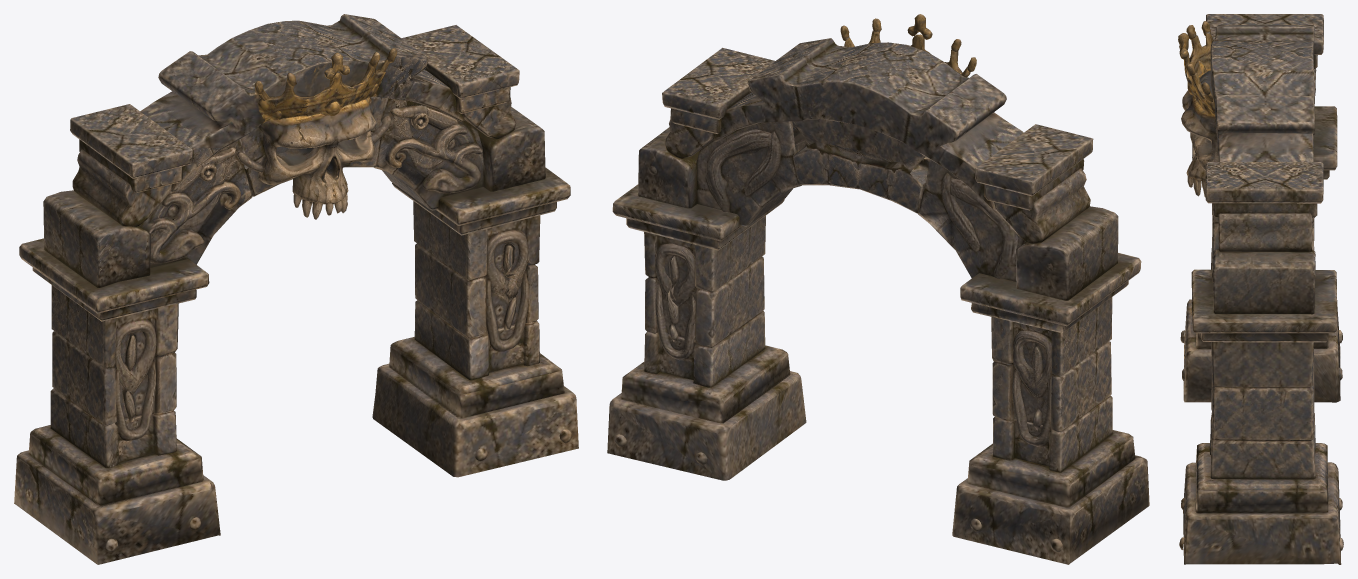
Rendered from royal-portal.glb.
The picture shows the model from 3 angles, left to right: view 1: azimuth 30°, elevation 25°; view 2: azimuth 150°, elevation 25°; view 3: azimuth 270°, elevation 25°; orthographic projection. The views are drawn at different scales.
Visible parts, largest first — view 1: royal-portal-v2_LOD0; view 2: royal-portal-v2_LOD0; view 3: royal-portal-v2_LOD0.
Boxes of the visible parts, x1,y1,x2,y2 form: royal-portal-v2_LOD0: (14, 14, 578, 564); royal-portal-v2_LOD0: (607, 14, 1149, 564); royal-portal-v2_LOD0: (1178, 14, 1343, 564).
Size of what is drawn, in the model's own units: 1 by 0.9037 by 0.3215.
1 material, 1 textured.
